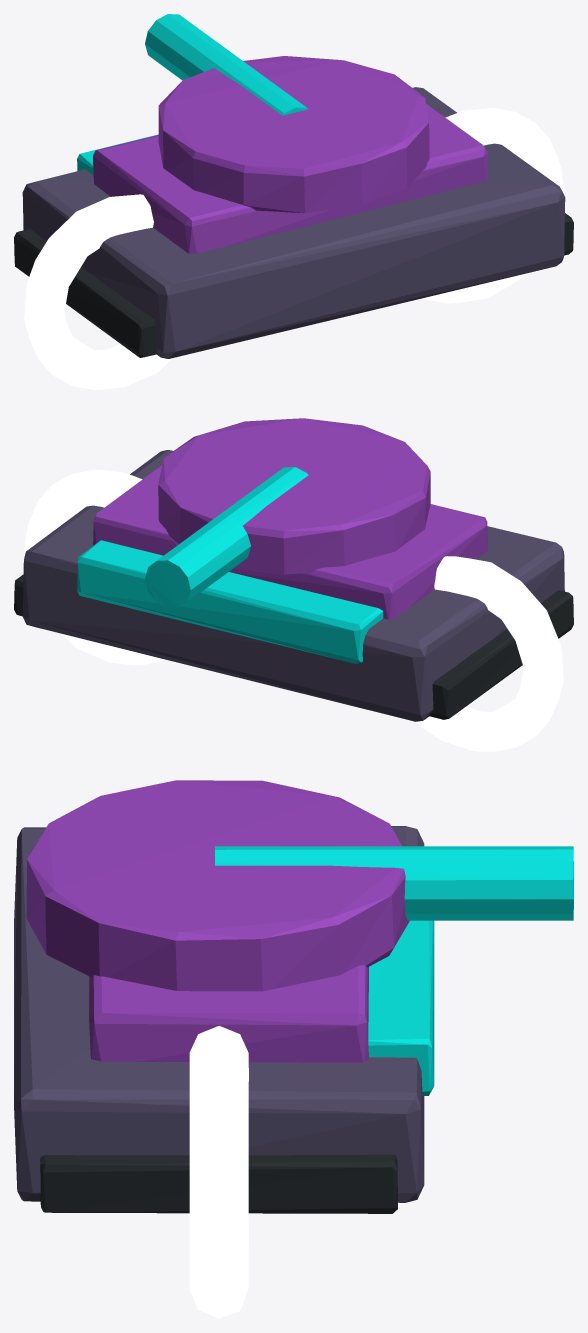
File: SM_Chronolegion_CH_TimelineTank_LOD1.fbx
3 renders of one model, top to bottom at view 1: azimuth 30°, elevation 25°; view 2: azimuth 150°, elevation 25°; view 3: azimuth 270°, elevation 25°, orthographic. The views are drawn at different scales.
Visible parts, largest first — view 1: LOD01_SM_Chronolegion_CH_TimelineTank; view 2: LOD01_SM_Chronolegion_CH_TimelineTank; view 3: LOD01_SM_Chronolegion_CH_TimelineTank.
Boxes of the visible parts, box(x1,y1,x2,y2) form: LOD01_SM_Chronolegion_CH_TimelineTank: box(14, 14, 573, 389); LOD01_SM_Chronolegion_CH_TimelineTank: box(14, 418, 573, 751); LOD01_SM_Chronolegion_CH_TimelineTank: box(14, 780, 573, 1318).
Bounding box in the file's own units: 556 × 358 × 236.
